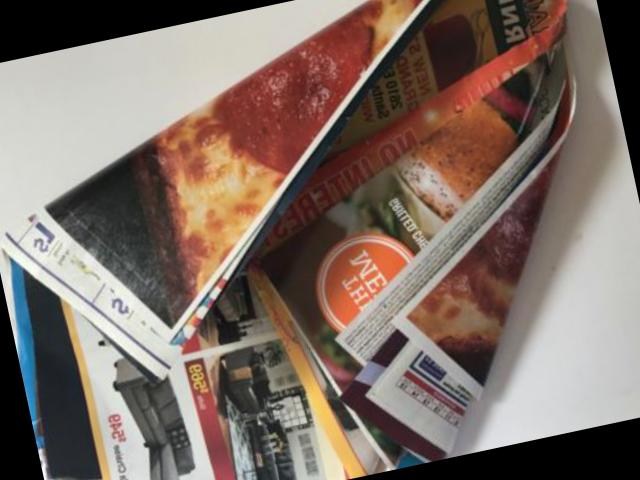cardboard paper: (0, 0, 577, 480)
